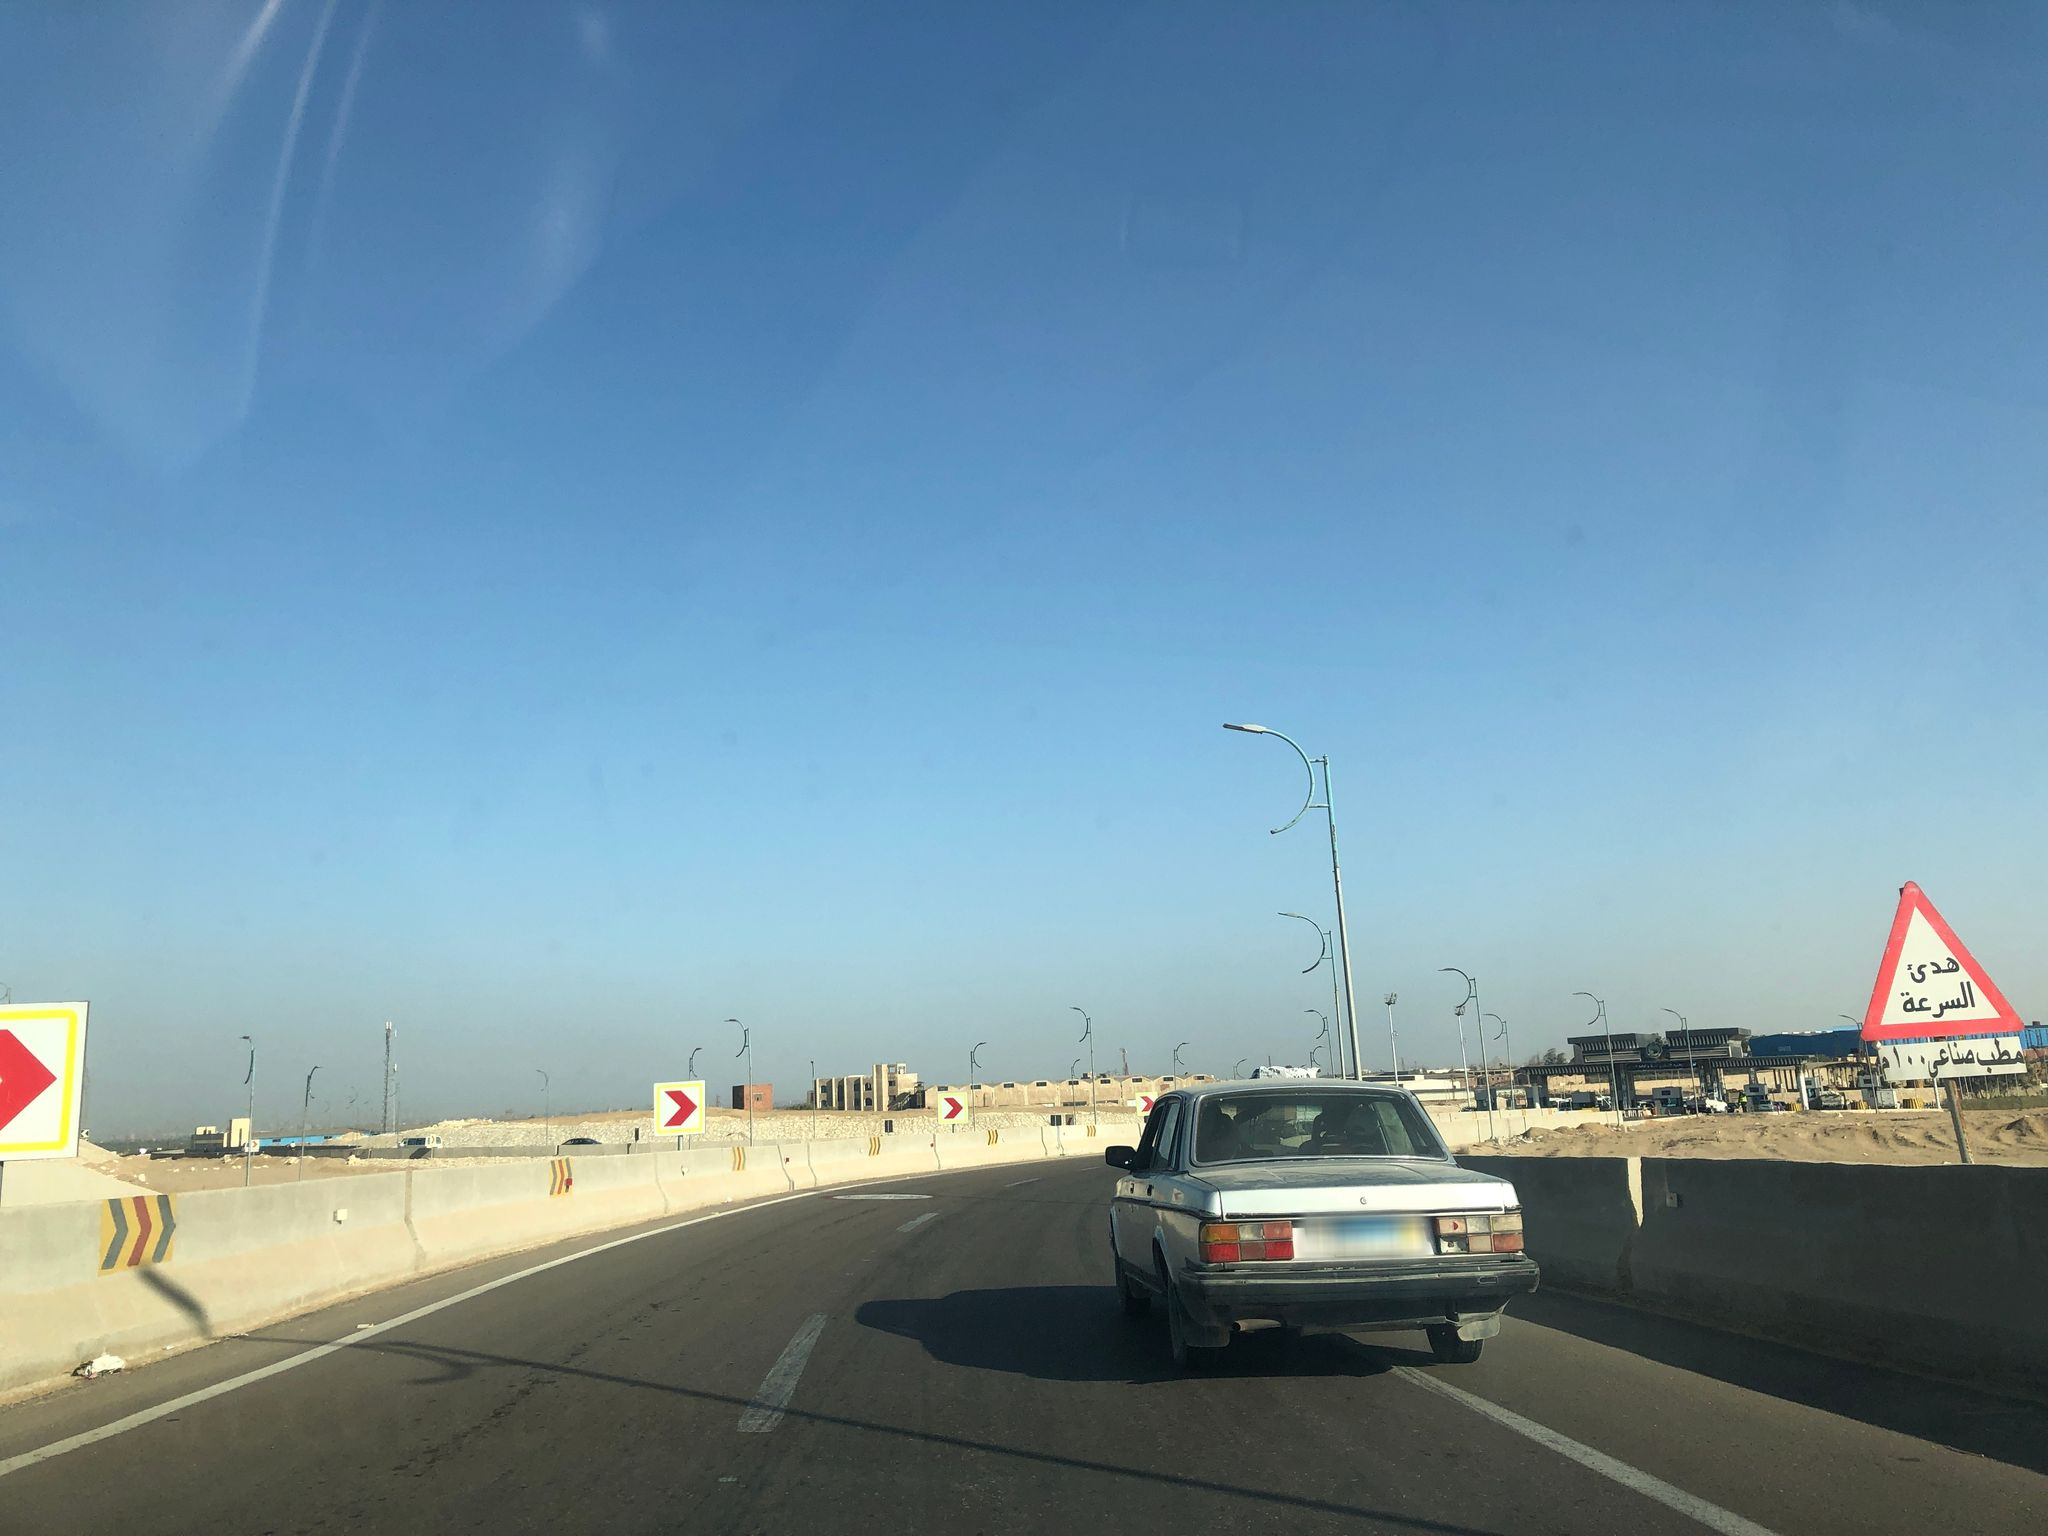car: (1106, 1075, 1543, 1367)
